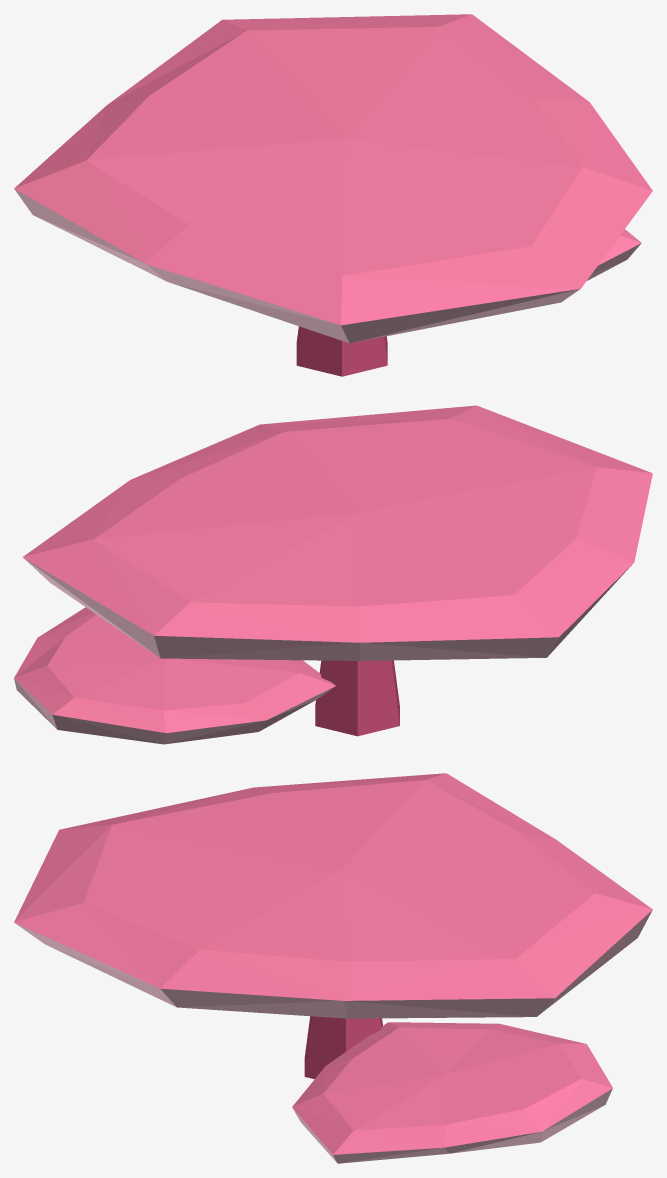
The model's file is coral_table_pink.fbx.
3 renders of one model, top to bottom at view 1: azimuth 30°, elevation 25°; view 2: azimuth 150°, elevation 25°; view 3: azimuth 270°, elevation 25°, orthographic. The views are drawn at different scales.
Visible parts, largest first — view 1: coral_table_pink; view 2: coral_table_pink; view 3: coral_table_pink.
Boxes of the visible parts, x1,y1,x2,y2 form: coral_table_pink: [14, 14, 652, 376]; coral_table_pink: [14, 405, 652, 744]; coral_table_pink: [14, 773, 652, 1163].
Bounding box in the file's own units: 1116 × 410 × 1209.
Materials: 1 (1 with a texture image).
